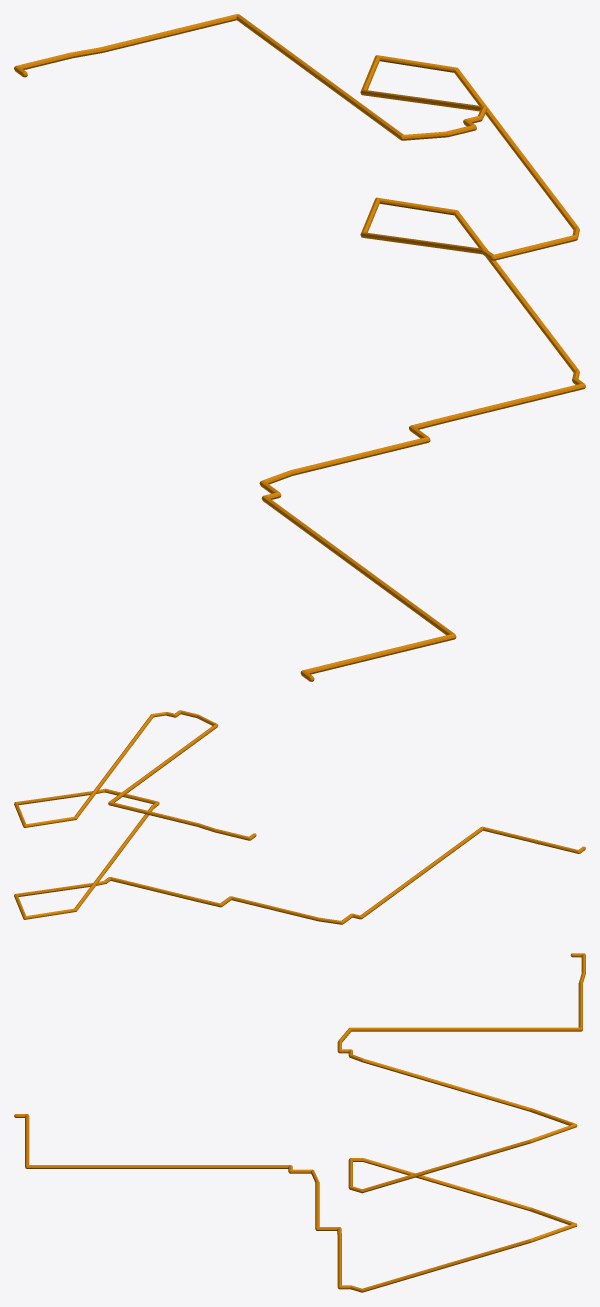
3 renders of one model, top to bottom at view 1: azimuth 30°, elevation 25°; view 2: azimuth 150°, elevation 25°; view 3: azimuth 270°, elevation 25°, orthographic. The views are drawn at different scales.
Size of the model in its own units: 1905 by 1020 by 2606.
